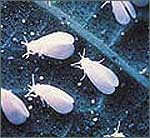whitefly: (70, 48, 119, 96), (24, 73, 74, 115), (20, 31, 75, 59)
